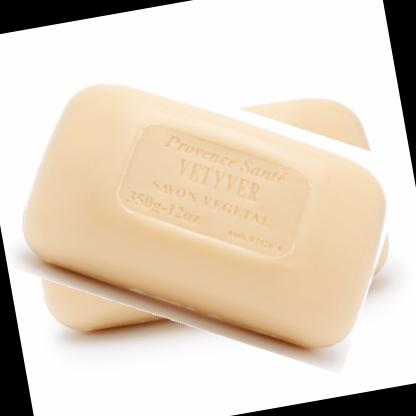soap: (0, 37, 415, 392)
